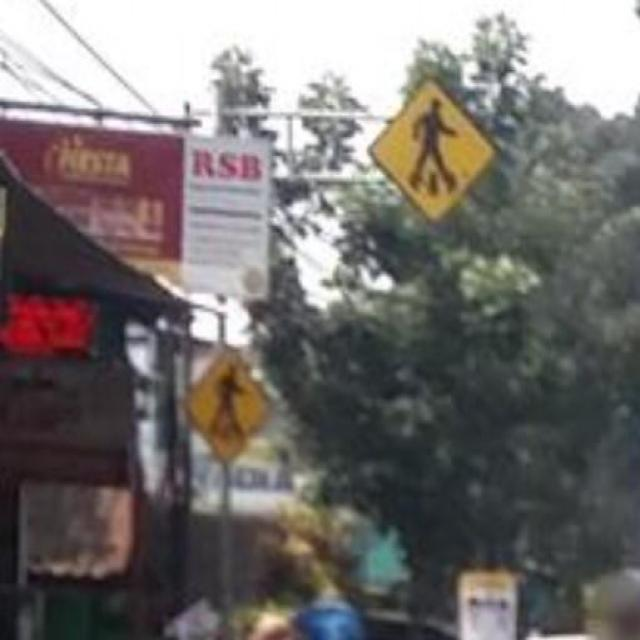traffic sign: (375, 79, 492, 220), (189, 349, 269, 462)
